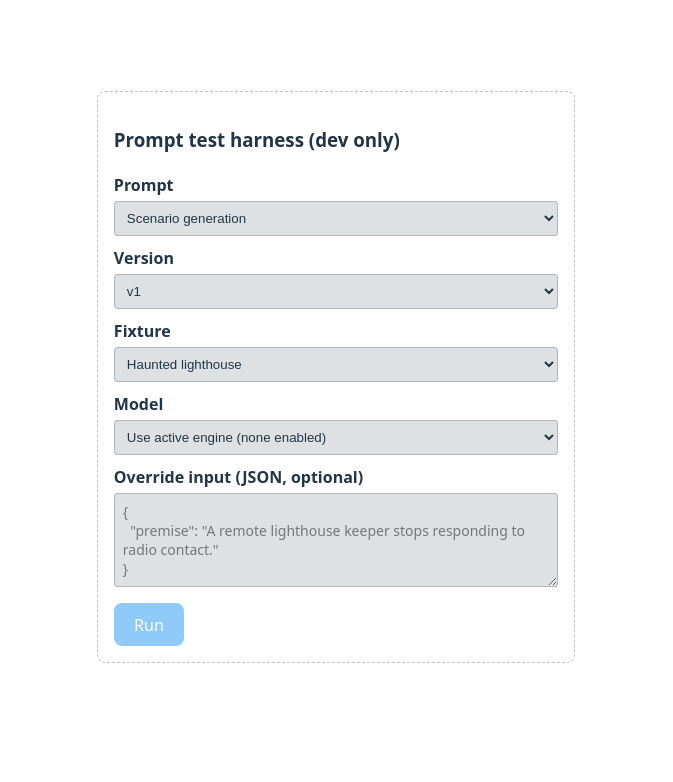
Test: PromptTestHarness › runs a prompt against an independently-created engine for the override tier and records history
The width and height of the screenshot is (673, 782).
Select "Small (fastest, least capable)" in the dropdown labelled "Model" at (336, 438), box x1=114 y1=420 x2=558 y2=455
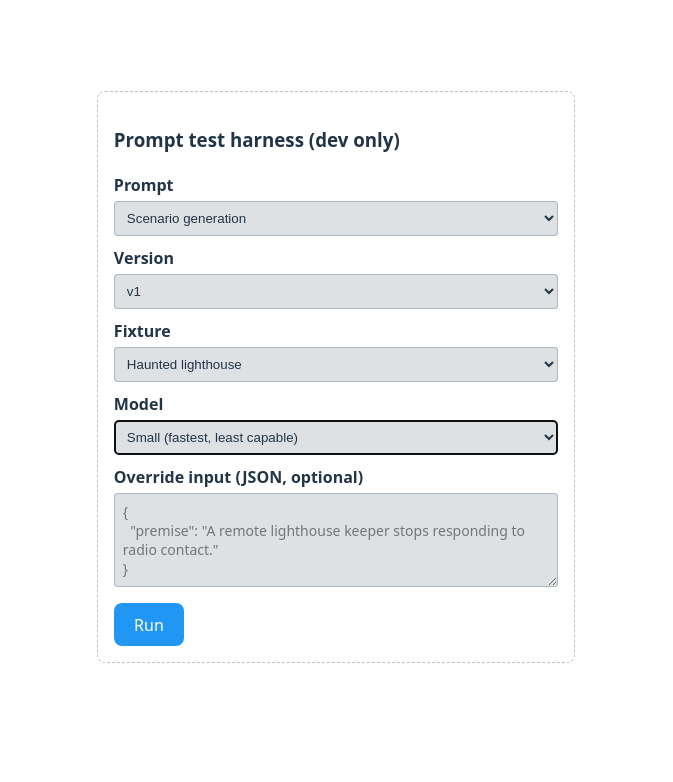
Click the button "Run".
click(149, 625)  # box x1=114 y1=603 x2=184 y2=646
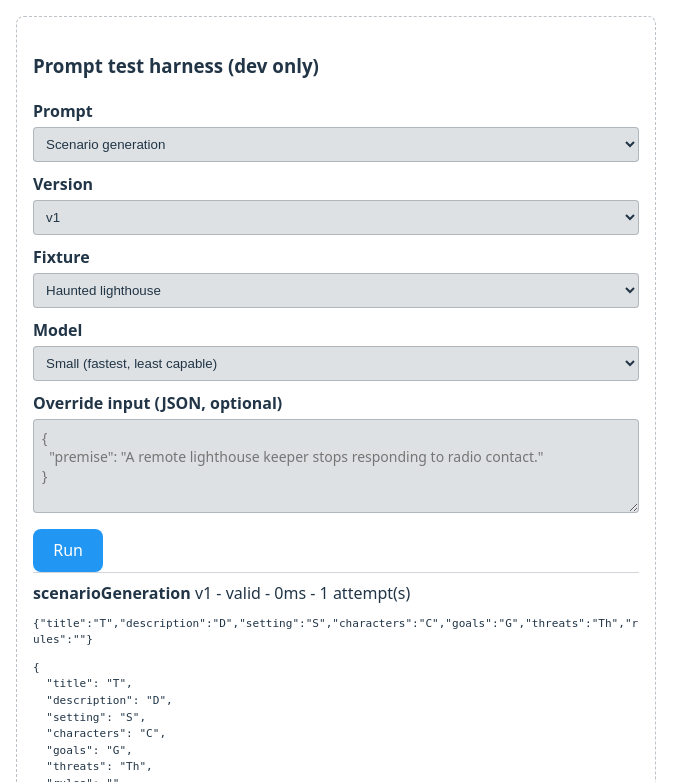
Result: the text "scenarioGeneration" is shown at x1=33 y1=582 x2=191 y2=604
Result: the text "scenarioGeneration v1 - valid - 0ms - 1 attempt(s)" is shown at x1=33 y1=582 x2=410 y2=604
